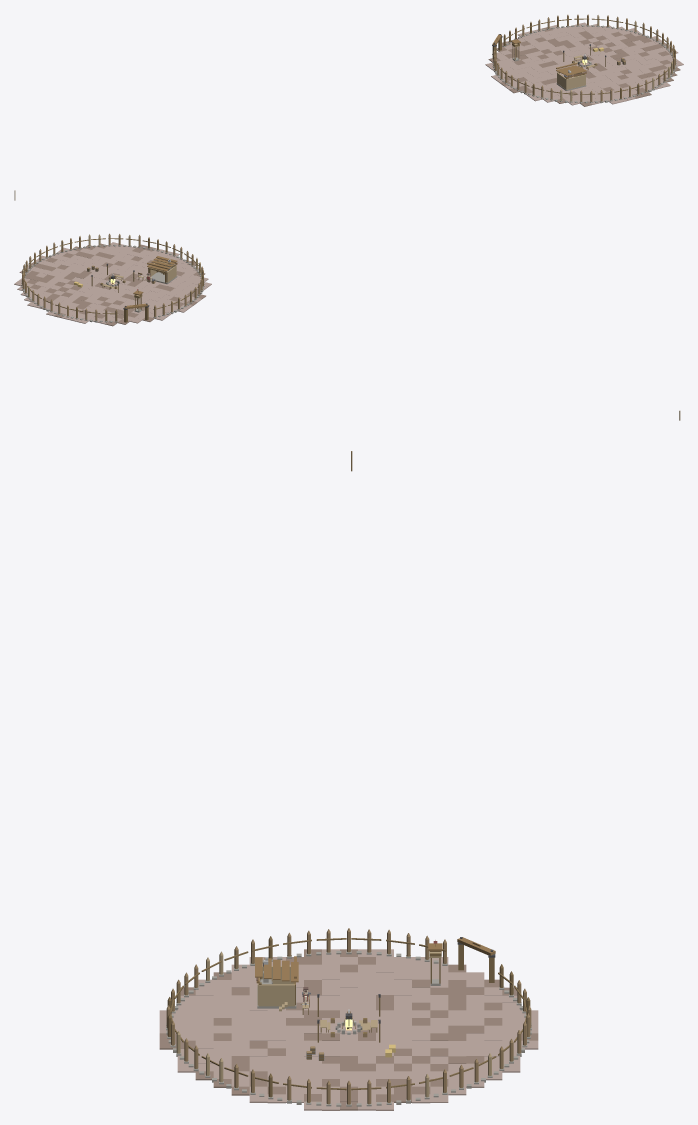
File: village.glb
3 views of the same model, one above another, from view 1: azimuth 30°, elevation 25°; view 2: azimuth 150°, elevation 25°; view 3: azimuth 270°, elevation 25° (orthographic). The views are drawn at different scales.
Visible parts, largest first — view 1: Village_Dirt, Village_DirtDark, Village_Log, Village_LogDark, Village_Stone, Village_Plank, Village_Roof; view 2: Village_Dirt, Village_DirtDark, Village_Log, Village_LogDark, Village_Stone, Village_Roof, Village_Plank; view 3: Village_Dirt, Village_DirtDark, Village_Log, Village_LogDark, Village_Stone, Village_Plank, Village_Roof.
Part boxes in pixels (x1,y1,x2,y2): Village_Dirt: (485, 22, 683, 105); Village_DirtDark: (488, 27, 680, 106); Village_Log: (493, 14, 675, 101); Village_LogDark: (14, 18, 675, 200); Village_Stone: (492, 25, 676, 103); Village_Plank: (512, 44, 595, 89); Village_Roof: (492, 34, 586, 78); Village_Dirt: (14, 242, 211, 324); Village_DirtDark: (24, 243, 205, 326); Village_Log: (22, 233, 203, 320); Village_LogDark: (24, 237, 680, 420); Village_Stone: (21, 244, 204, 322); Village_Roof: (124, 256, 177, 308); Village_Plank: (102, 261, 176, 298); Village_Dirt: (159, 949, 538, 1110); Village_DirtDark: (159, 949, 538, 1110); Village_Log: (166, 928, 531, 1104); Village_LogDark: (167, 451, 530, 1097); Village_Stone: (166, 950, 531, 1106); Village_Plank: (257, 952, 441, 1030); Village_Roof: (255, 937, 495, 983).
Size of the model in its own units: 209 by 6.92 by 52.5.
